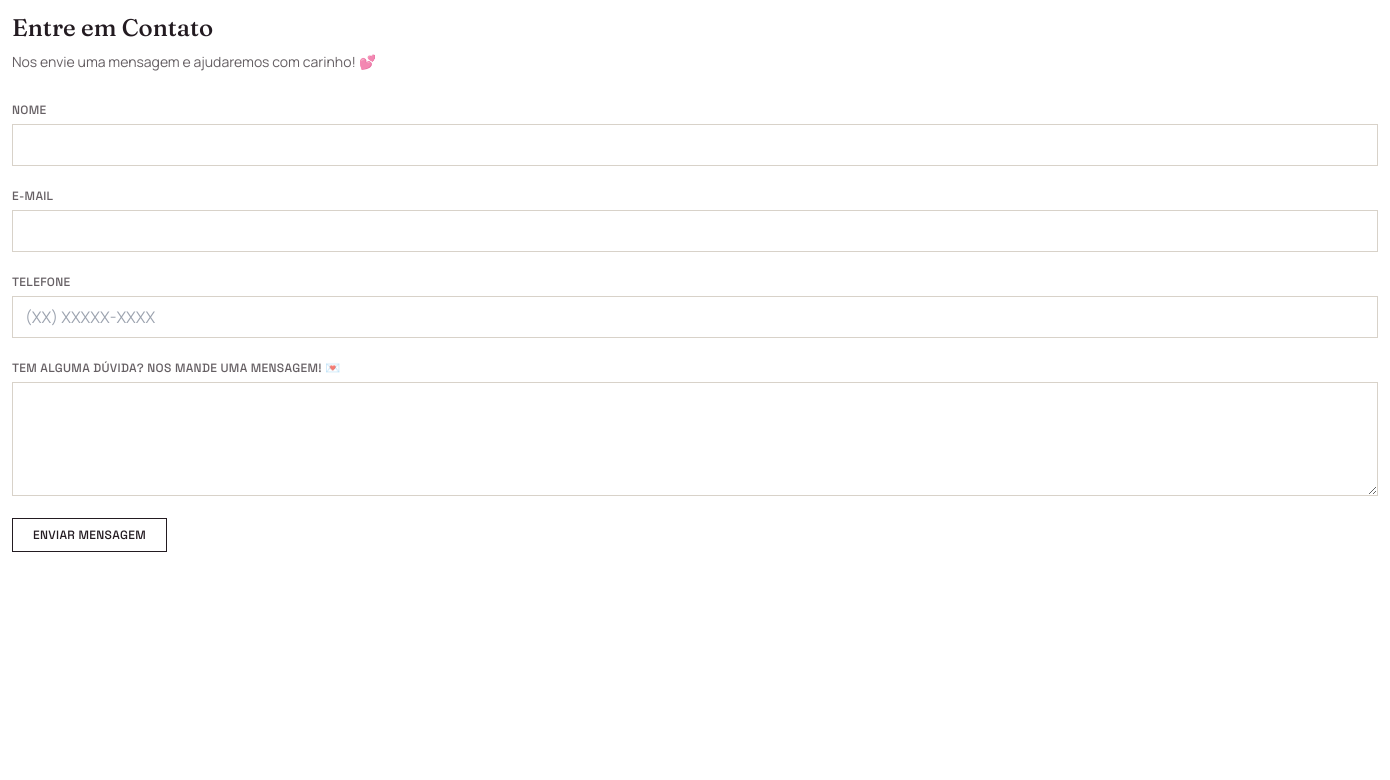
ContactForm Component › Submete o formulário com valores válidos
Type "Maria" into the field labelled "Nome". click: (695, 145)
box: [12, 124, 1378, 166]
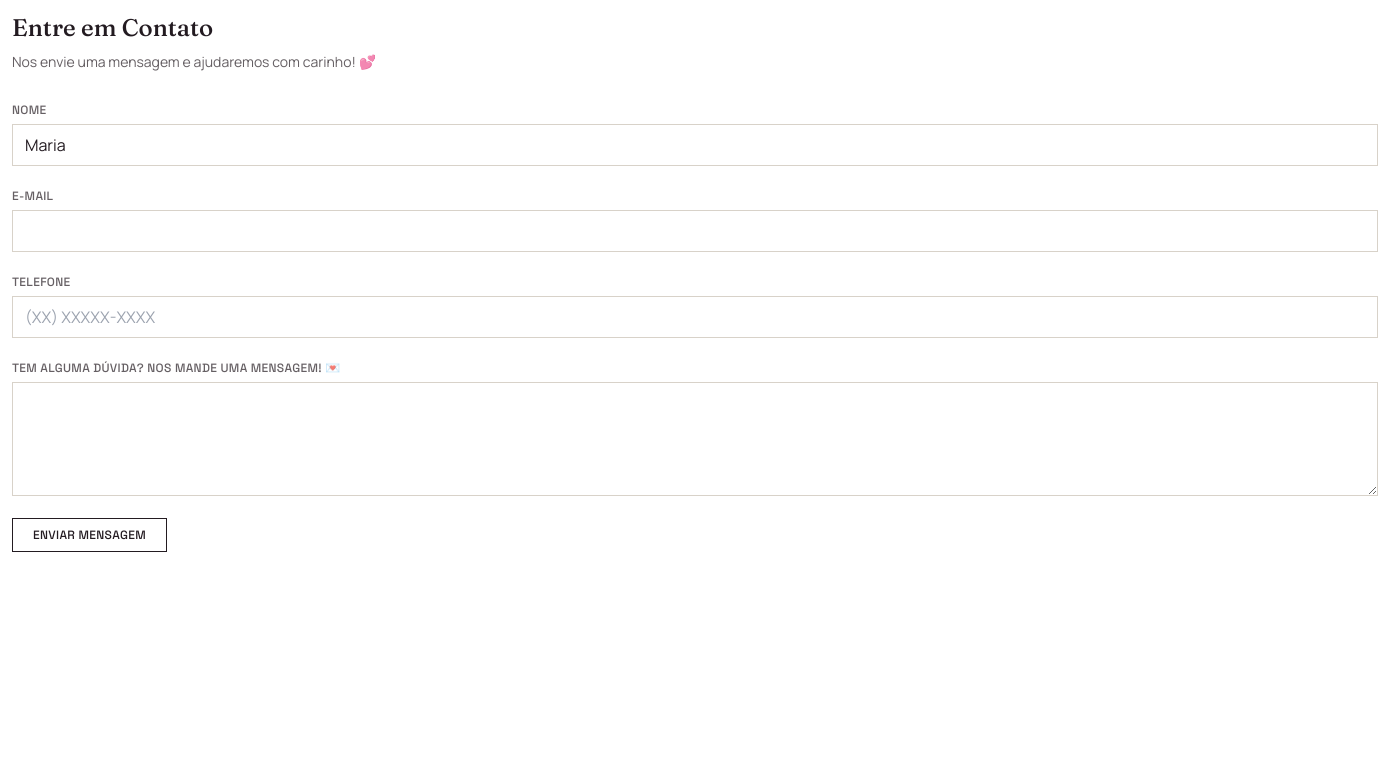
Type "teste@email.com" into the field labelled "E-mail". click: (695, 231)
box: [12, 210, 1378, 252]
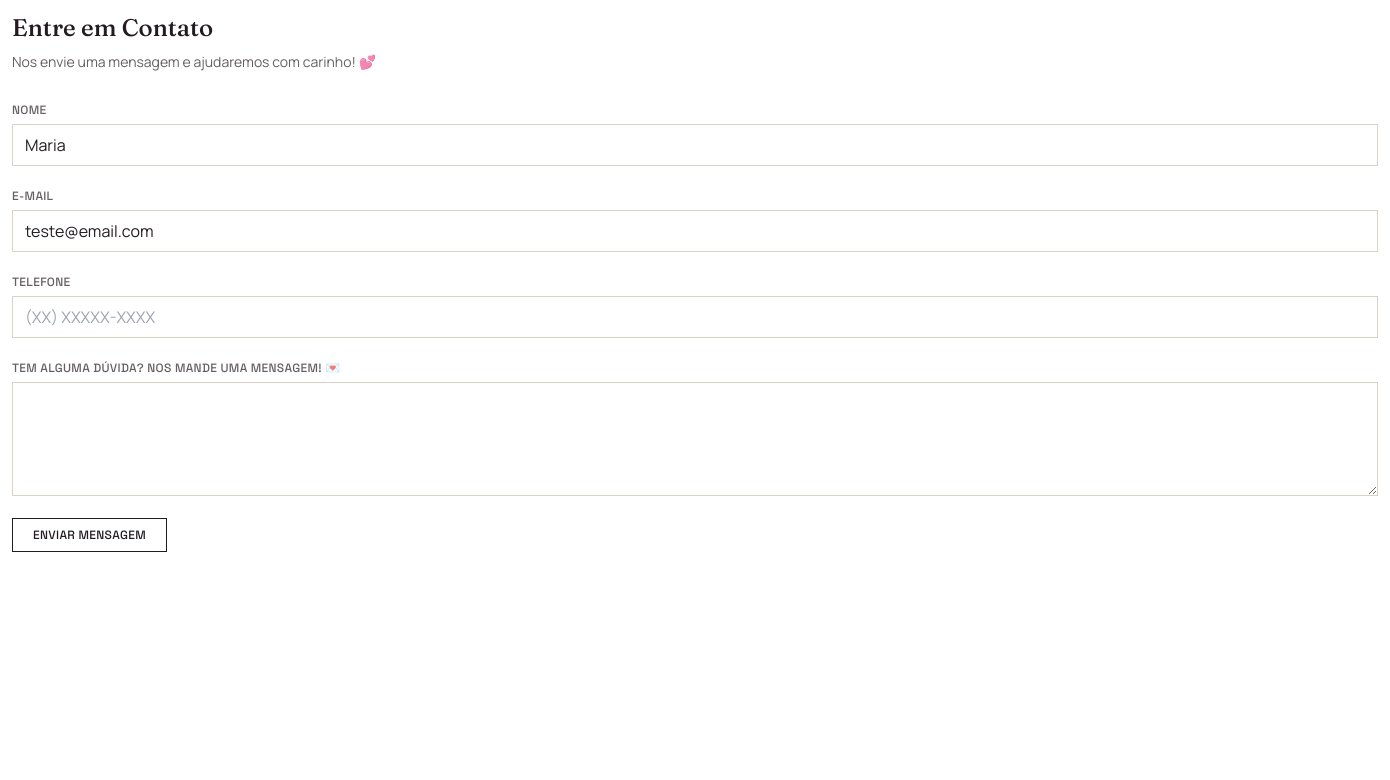
Type "1234567890" into the field labelled "Telefone". click: (695, 317)
box: [12, 296, 1378, 338]
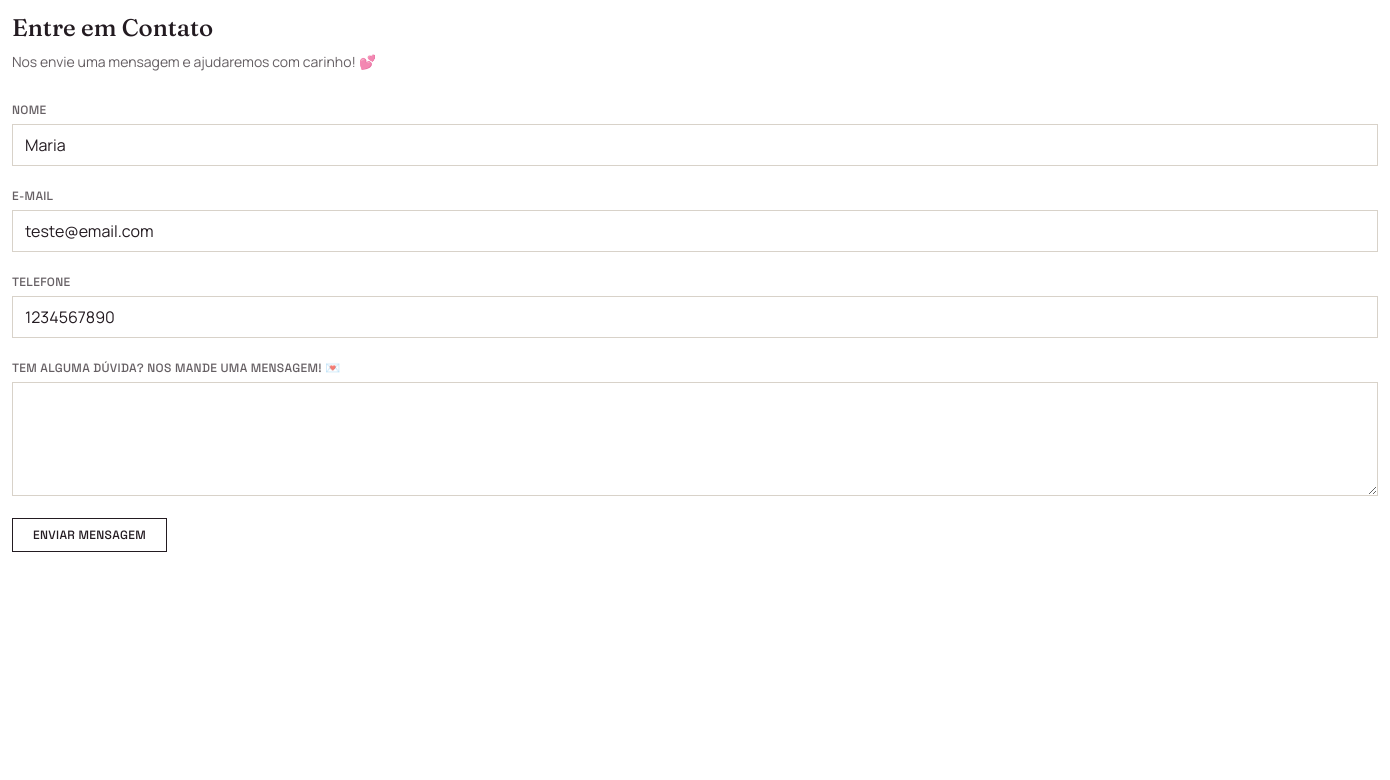
Type "Olá, quero saber mais!" into the text box labelled "Tem alguma dúvida? Nos mande uma mensagem! 💌". click: (695, 439)
box: [12, 382, 1378, 496]
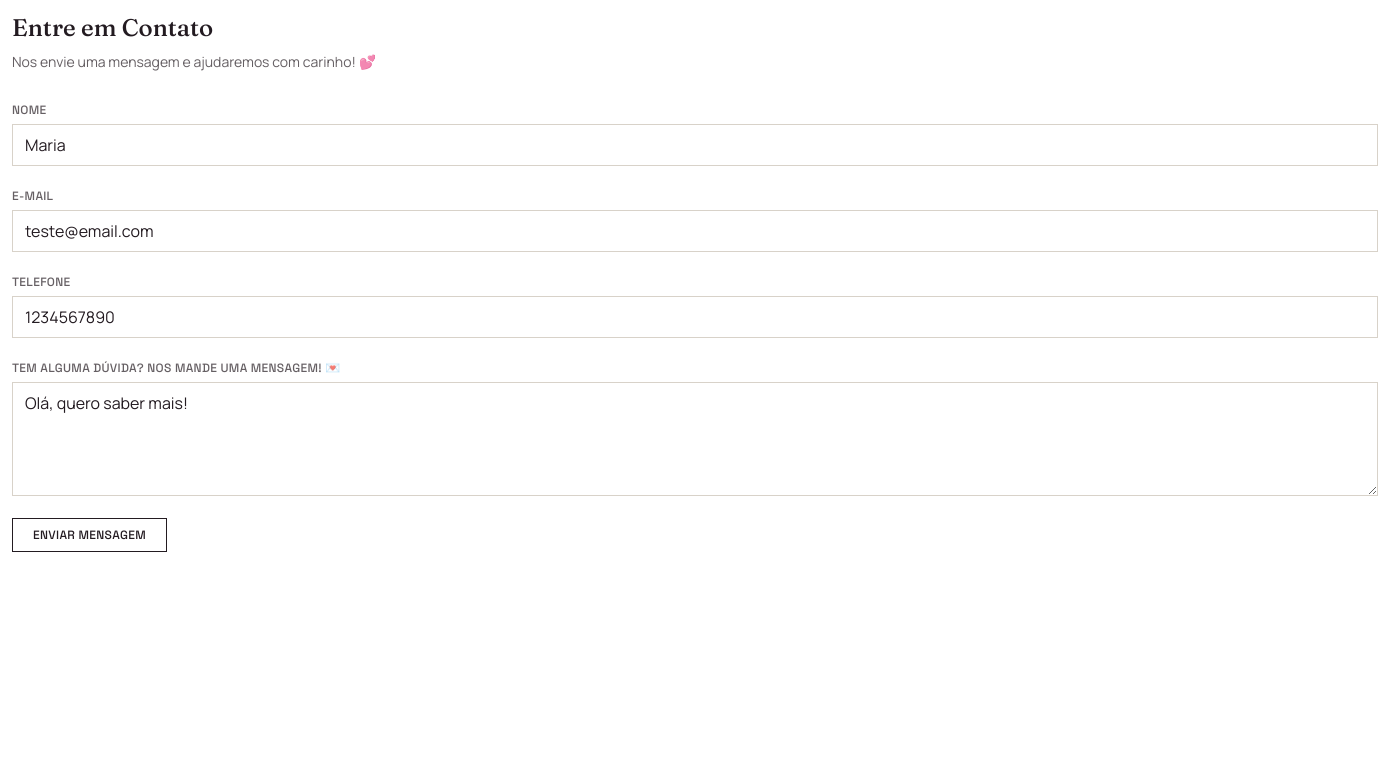
Submit the form from the button "Enviar Mensagem", box [12, 518, 167, 552]
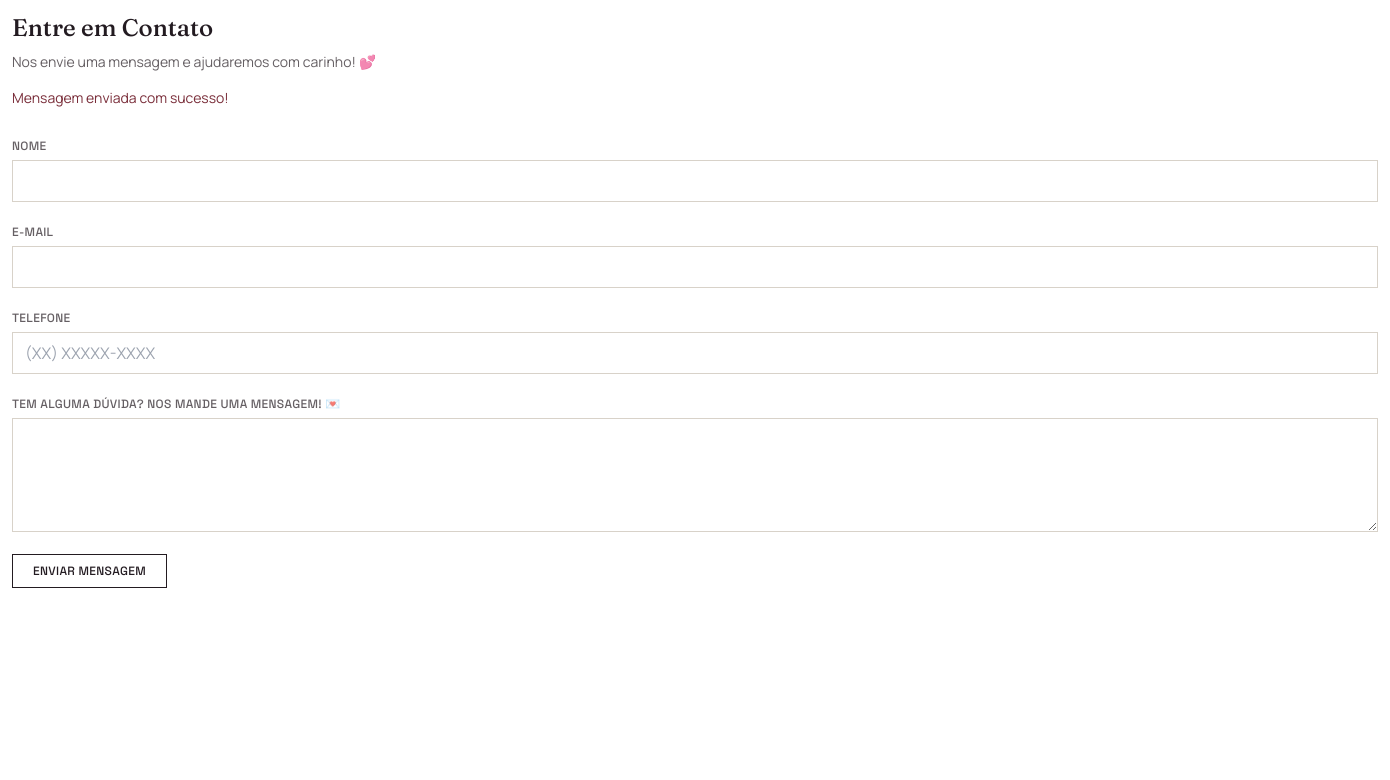
Expected: the text "Mensagem enviada com sucesso!" is shown, [12, 88, 229, 107]
Expected: the field labelled "Nome" is empty, [12, 160, 1378, 202]
Expected: the field labelled "E-mail" is empty, [12, 246, 1378, 288]
